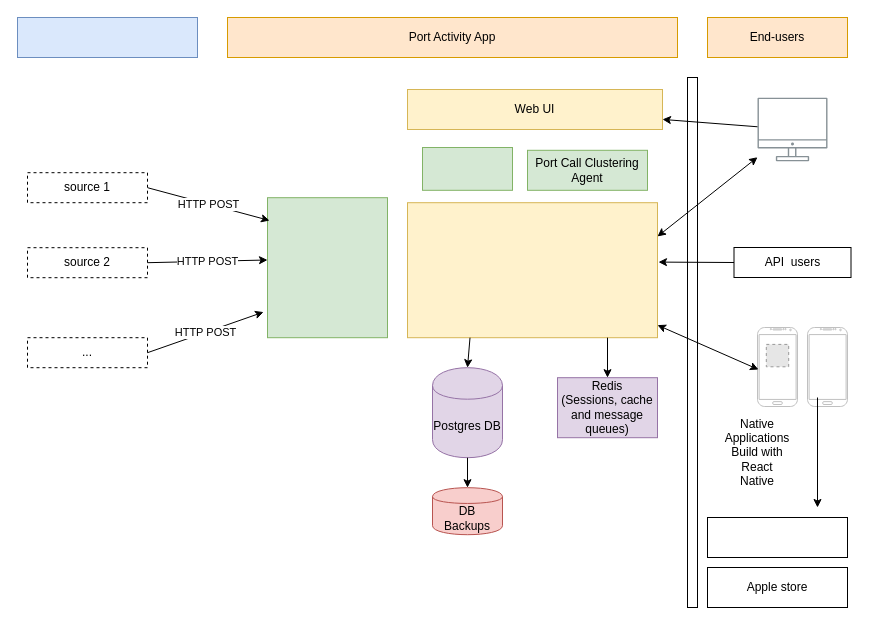
Some shapes in this 869 by 625 pixel diagram are drawn without their labels. Grey dashed boxes stand in for pictures. The centre of each missing label's shape, as x and y in pixels:
"Data sources" belongs at pixel 107 37.
"Google play store" belongs at pixel 777 537.
"ReactJS Application" belongs at pixel 792 129.
"REST API" belongs at pixel 532 270.
"Timestamp REST" belongs at pixel 327 267.
"WebSocket" belongs at pixel 467 168.
